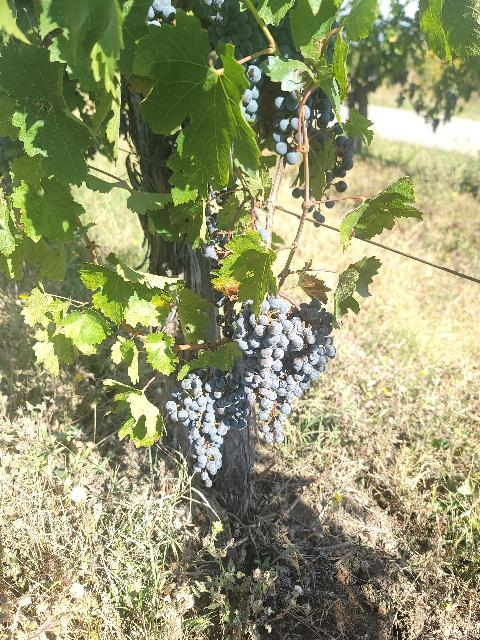grapes: (234, 295, 304, 441), (166, 369, 222, 488), (286, 300, 335, 380), (212, 369, 248, 429)
